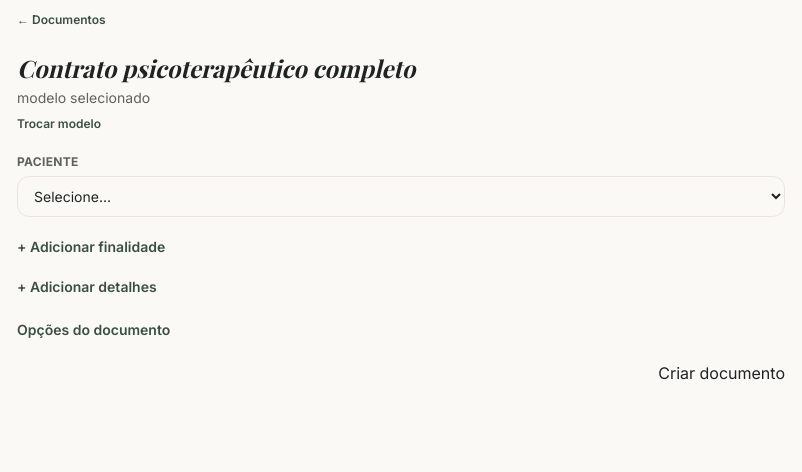
Test: NewDocumentWizard › mantém formato do livreto em opções avançadas
The width and height of the screenshot is (802, 472).
expect the button "+ Adicionar finalidade" is shown: met, box x1=17 y1=237 x2=785 y2=257
expect the field labelled "Formato" is not shown: met
Click the button "Opções do documento" at (94, 330), box x1=17 y1=320 x2=170 y2=340
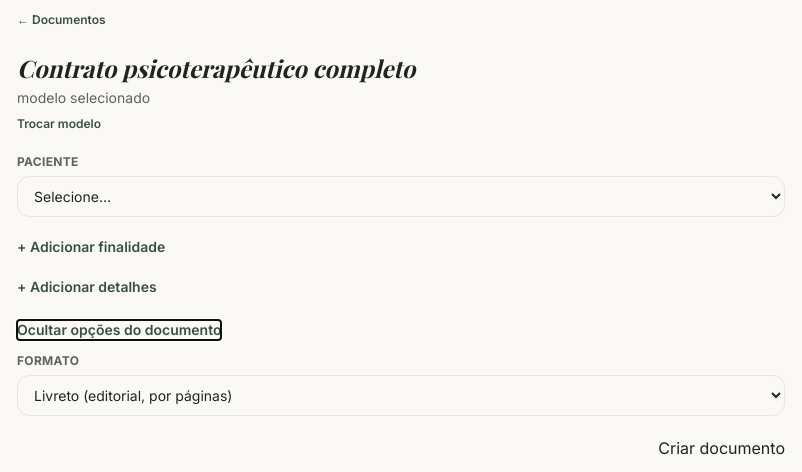
expect the dropdown labelled "Formato" shows "Livreto (editorial, por páginas)": met, box x1=17 y1=375 x2=785 y2=416
